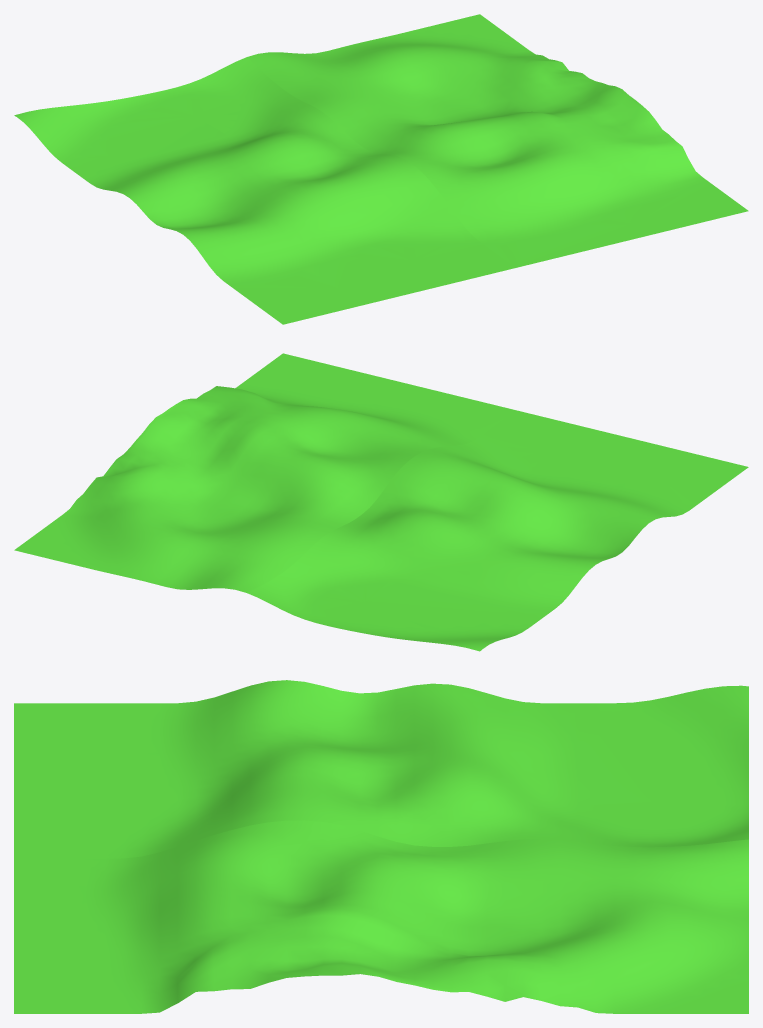
Rendered from tile_200_0.glb.
3 renders of one model, top to bottom at view 1: azimuth 30°, elevation 25°; view 2: azimuth 150°, elevation 25°; view 3: azimuth 270°, elevation 25°, orthographic. The views are drawn at different scales.
Visible parts, largest first — view 1: tile_200_0; view 2: tile_200_0; view 3: tile_200_0.
Boxes of the visible parts, x1=… form: tile_200_0: x1=14, y1=14, x2=748, y2=324; tile_200_0: x1=14, y1=353, x2=748, y2=651; tile_200_0: x1=14, y1=680, x2=748, y2=1013.
Bounding box in the file's own units: 100 × 6.27 × 100.
